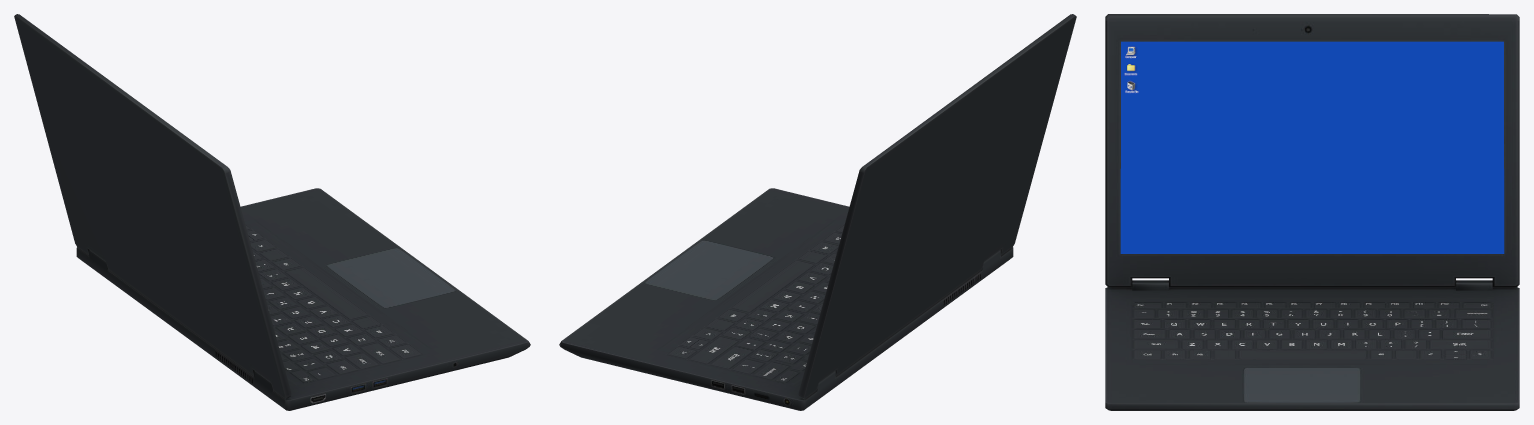
The model's file is laptop.glb.
The picture shows the model from 3 angles, left to right: view 1: azimuth 30°, elevation 25°; view 2: azimuth 150°, elevation 25°; view 3: azimuth 270°, elevation 25°; orthographic projection.
Visible parts, largest first — view 1: Object_1.005; view 2: Object_1.005; view 3: Object_1.005.
Part boxes in pixels (left/top/right/bottom): Object_1.005: left=14, top=14, right=530, bottom=410; Object_1.005: left=559, top=14, right=1076, bottom=410; Object_1.005: left=1105, top=14, right=1519, bottom=410.
Size of the model in its own units: 0.1815 by 0.1465 by 0.2151.
Materials: 2 (2 with a texture image).
